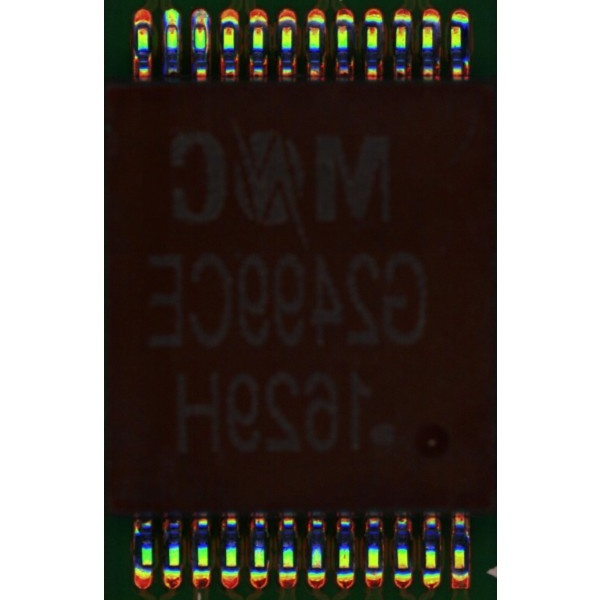Bad_qiaojiao: (190, 26, 195, 57), (205, 27, 209, 55)
